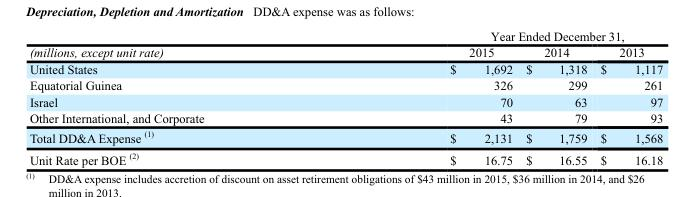table: (28, 28, 662, 166)
table column: (28, 28, 326, 166), (326, 28, 518, 166), (518, 28, 593, 166), (593, 28, 662, 166)
table column header: (28, 28, 662, 60)
table row: (28, 126, 662, 147), (28, 147, 662, 166), (28, 43, 662, 60), (28, 76, 662, 93), (28, 109, 662, 126), (28, 60, 662, 76), (28, 93, 662, 109), (28, 28, 662, 43)
table spanning cell: (28, 28, 326, 60), (326, 28, 662, 43)
